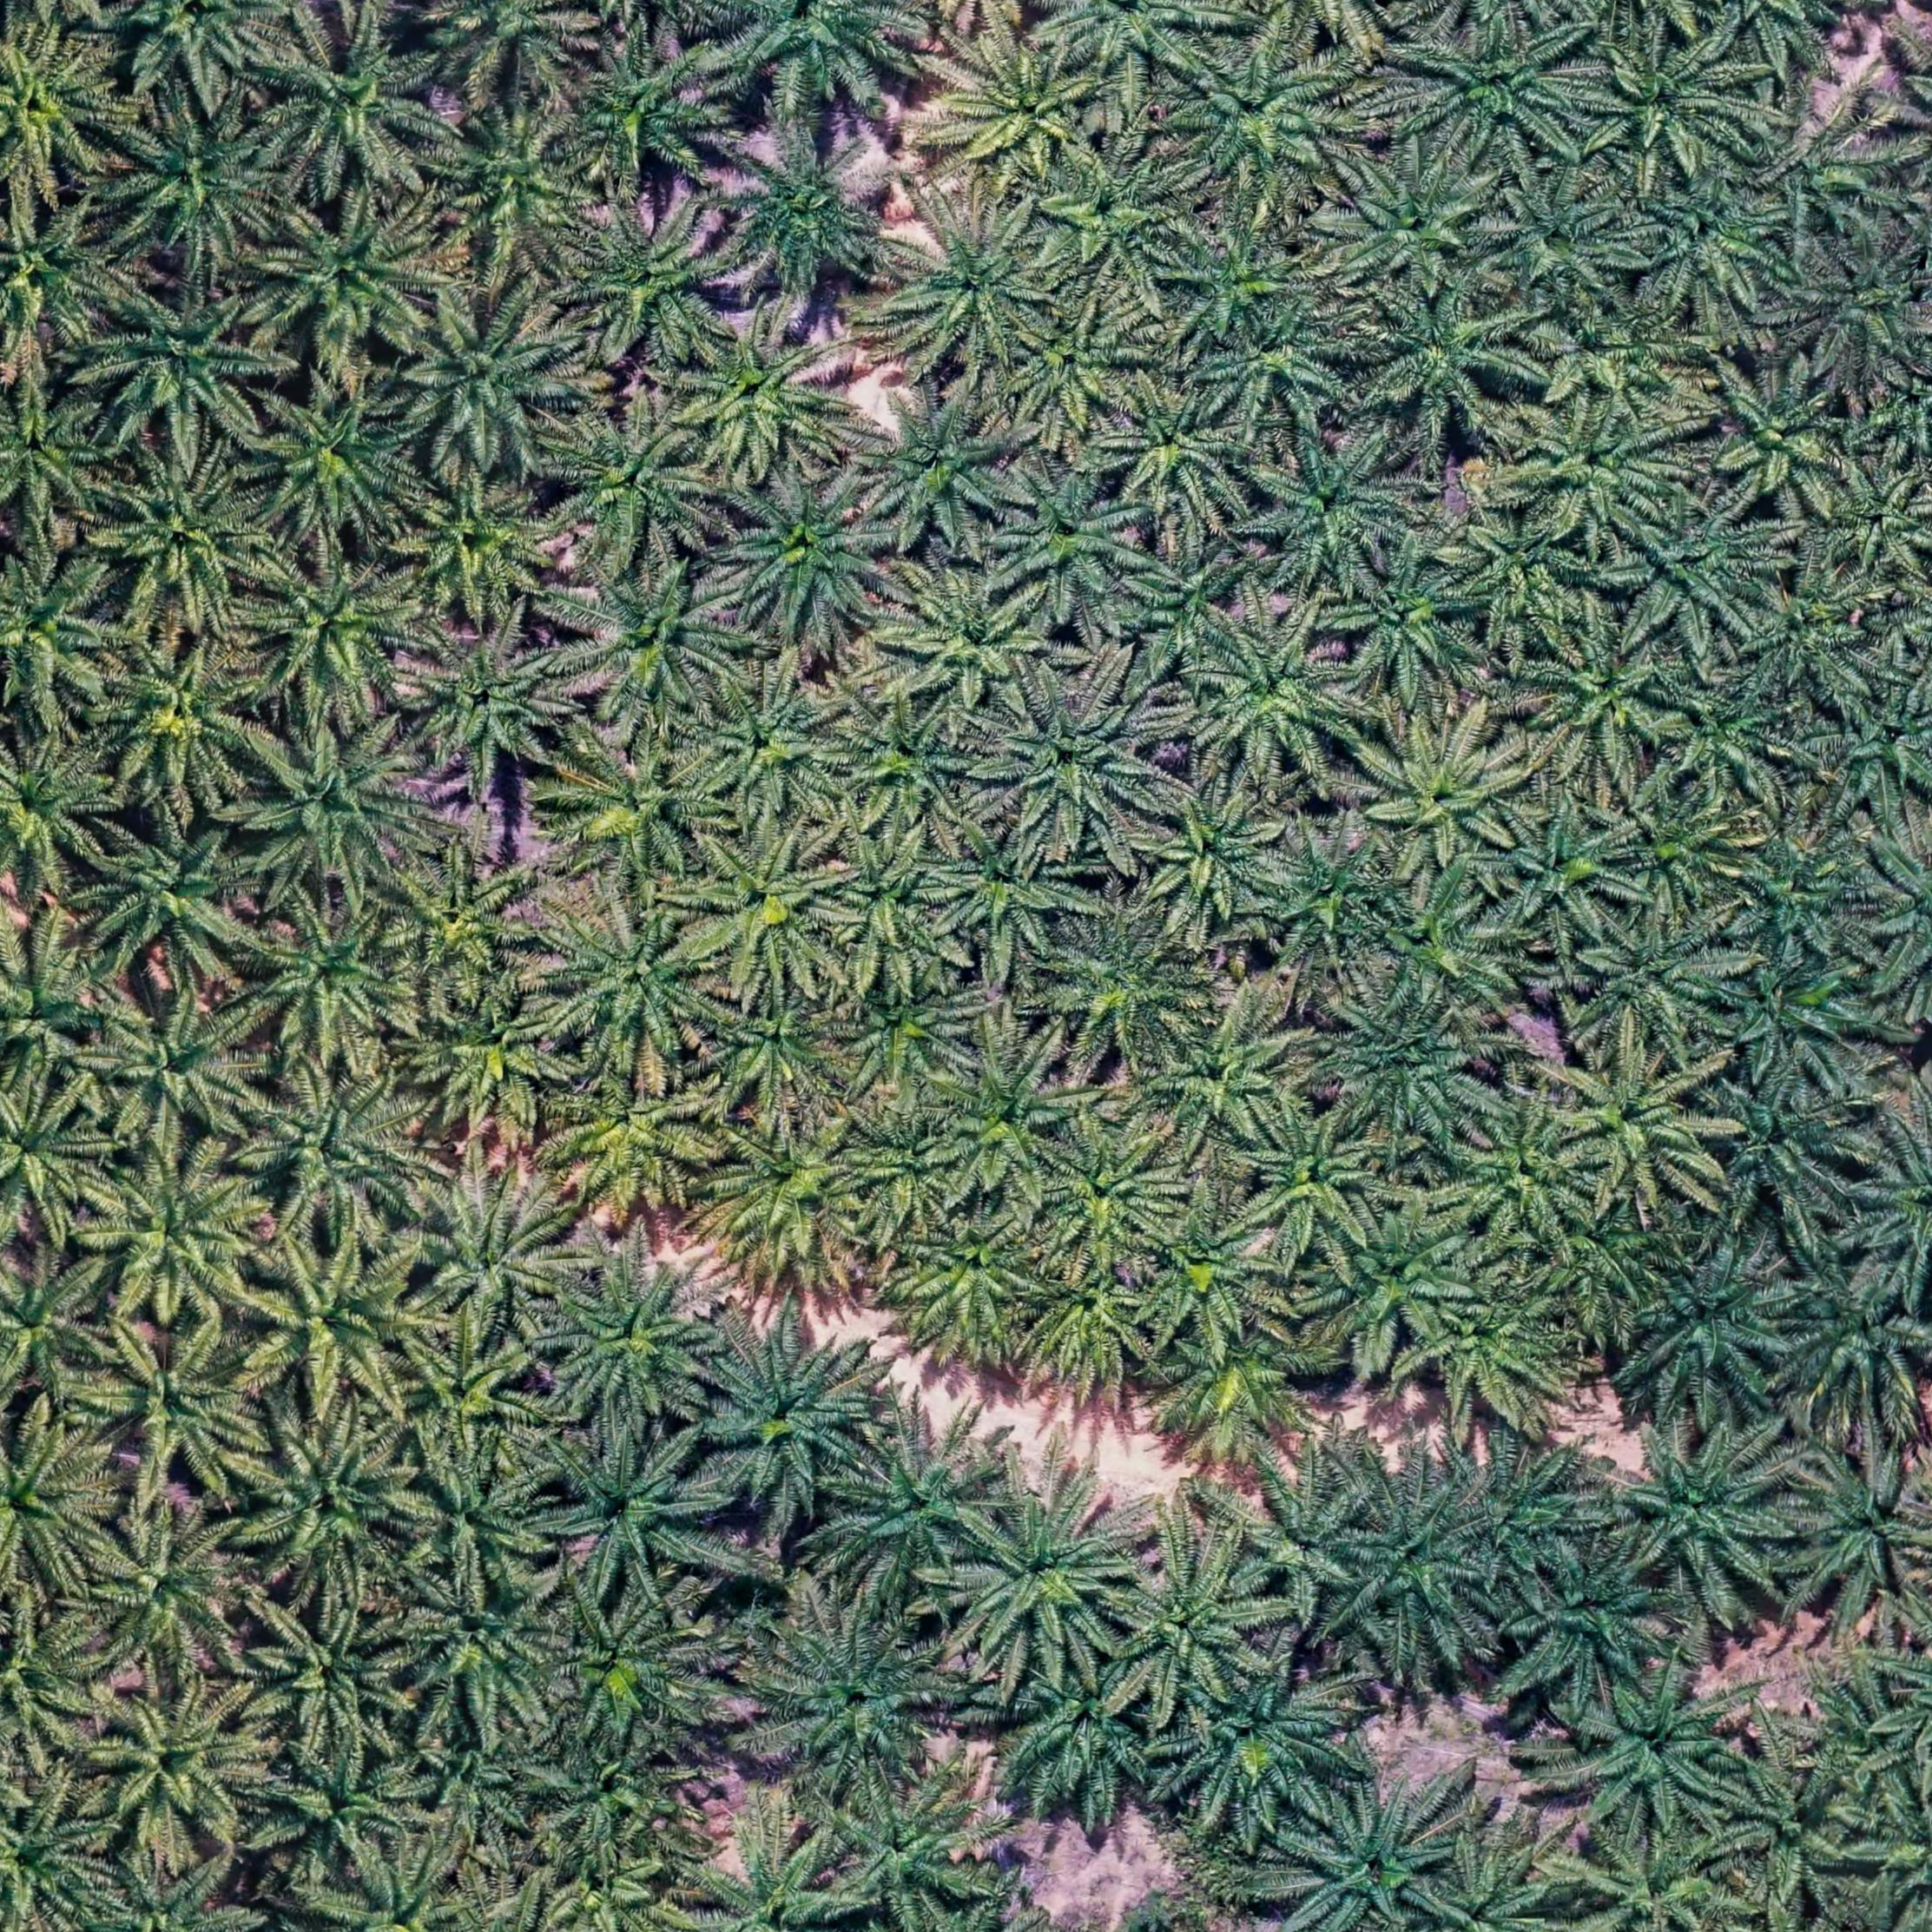palmtree: (750, 1606, 959, 1801), (234, 718, 439, 902), (400, 285, 593, 469), (87, 1679, 280, 1863), (88, 1146, 281, 1329), (235, 1412, 423, 1598), (957, 1486, 1146, 1670), (257, 11, 448, 193), (92, 271, 285, 449), (239, 1063, 425, 1247), (97, 446, 285, 628), (88, 1316, 278, 1497), (1559, 1658, 1748, 1838), (1610, 1422, 1801, 1601), (257, 195, 451, 370), (1162, 1654, 1359, 1826), (982, 676, 1173, 851), (88, 805, 274, 982), (242, 545, 432, 718), (96, 630, 280, 807), (541, 1422, 727, 1598), (76, 1504, 257, 1683), (695, 1329, 878, 1506), (111, 96, 295, 271), (242, 1233, 421, 1412), (720, 124, 902, 299), (88, 982, 276, 1152), (563, 556, 747, 727), (545, 1256, 727, 1428), (543, 899, 729, 1067), (241, 1592, 423, 1762), (886, 203, 1062, 379), (248, 370, 425, 543), (676, 317, 856, 487), (403, 623, 586, 791), (239, 895, 419, 1063), (402, 1560, 580, 1729), (989, 1652, 1169, 1819), (1171, 35, 1355, 198), (724, 469, 902, 635), (430, 104, 605, 272), (410, 1171, 587, 1338), (695, 1111, 870, 1277), (548, 398, 725, 563), (405, 977, 584, 1138), (568, 203, 740, 370), (548, 1596, 725, 1757), (564, 30, 736, 195), (377, 842, 552, 1003), (1192, 609, 1362, 773), (1334, 1493, 1499, 1663), (1631, 1238, 1801, 1403), (856, 386, 1030, 547), (1155, 1318, 1338, 1470), (690, 823, 856, 989), (393, 465, 566, 625), (1502, 1541, 1675, 1698), (552, 734, 729, 888), (936, 30, 1111, 182), (1783, 1438, 1932, 1617), (552, 1060, 724, 1214), (1775, 1265, 1932, 1431), (1359, 722, 1527, 878), (1281, 1787, 1460, 1932), (1141, 998, 1309, 1150), (1323, 1205, 1486, 1361), (888, 570, 1056, 720), (255, 1739, 428, 1884), (1260, 433, 1421, 589), (840, 1430, 1007, 1580), (1325, 993, 1497, 1138), (1115, 1546, 1272, 1704), (715, 0, 927, 117), (692, 674, 855, 824), (826, 1776, 991, 1925), (1573, 908, 1739, 1054), (529, 1730, 701, 1872), (994, 460, 1150, 616), (1718, 1759, 1874, 1914), (1714, 957, 1881, 1100), (1532, 612, 1684, 766), (1509, 283, 1681, 419), (1419, 1284, 1580, 1430), (0, 545, 127, 727), (1560, 1047, 1714, 1196), (1709, 1083, 1872, 1223), (1198, 292, 1362, 430), (0, 23, 129, 198), (0, 188, 131, 359), (1364, 292, 1529, 428), (1417, 28, 1583, 163), (934, 1037, 1079, 1191), (403, 1716, 559, 1859), (409, 1453, 568, 1592), (1338, 154, 1500, 290), (892, 1214, 1046, 1357), (1049, 913, 1205, 1054), (1619, 499, 1776, 639), (1516, 402, 1679, 534), (1139, 780, 1288, 925), (94, 0, 301, 103), (830, 694, 985, 830), (1037, 145, 1189, 283), (0, 1419, 113, 1603), (400, 1322, 541, 1468), (1260, 824, 1410, 961), (0, 732, 124, 897), (1037, 1122, 1184, 1260), (1334, 557, 1483, 694), (0, 368, 117, 540), (1005, 297, 1154, 432), (936, 821, 1085, 955), (1727, 824, 1877, 957), (1136, 1205, 1277, 1345), (1759, 111, 1916, 237), (674, 1828, 863, 1932), (1014, 1253, 1162, 1385), (1366, 883, 1514, 1016), (0, 922, 113, 1095), (699, 985, 847, 1116), (1599, 35, 1748, 166), (1453, 1108, 1598, 1240), (1495, 807, 1642, 938), (0, 1606, 119, 1767), (1244, 1108, 1382, 1246), (1111, 384, 1251, 518), (0, 1244, 111, 1410), (1720, 364, 1849, 508), (0, 1081, 111, 1246), (1562, 1829, 1741, 1932), (1116, 534, 1256, 665), (833, 973, 978, 1099), (1451, 504, 1587, 635), (1171, 218, 1320, 336), (1463, 1445, 1594, 1580), (824, 828, 959, 959), (0, 1773, 110, 1930), (425, 0, 598, 99), (1497, 177, 1633, 299), (306, 1845, 497, 1932), (1640, 193, 1783, 306), (1806, 244, 1932, 373), (1661, 676, 1790, 800), (839, 1109, 962, 1237), (1244, 1481, 1375, 1601), (1619, 794, 1750, 913), (1746, 584, 1881, 699), (1852, 1111, 1932, 1297), (1550, 1198, 1672, 1315), (1819, 690, 1932, 816), (1414, 1851, 1580, 1932), (1819, 464, 1932, 582), (1047, 0, 1210, 78), (1856, 1778, 1932, 1921)
